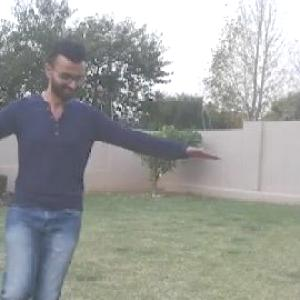land: (0, 61, 160, 299)
